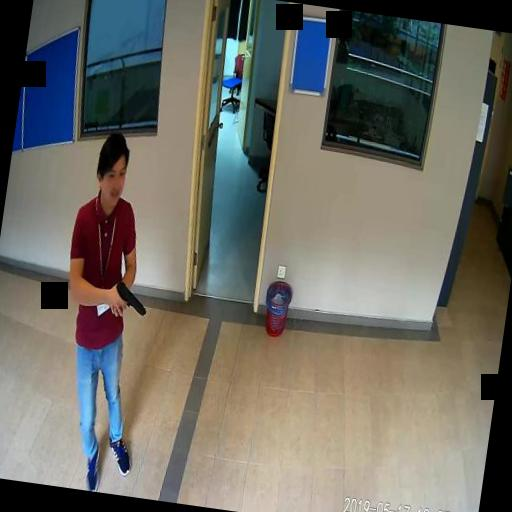Handgun: (111, 280, 148, 318)
